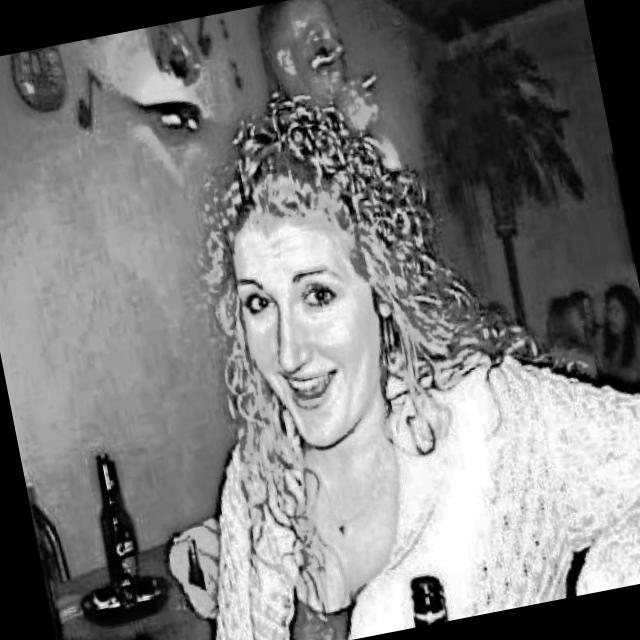Person: (101, 30, 640, 640), (254, 0, 355, 120)
